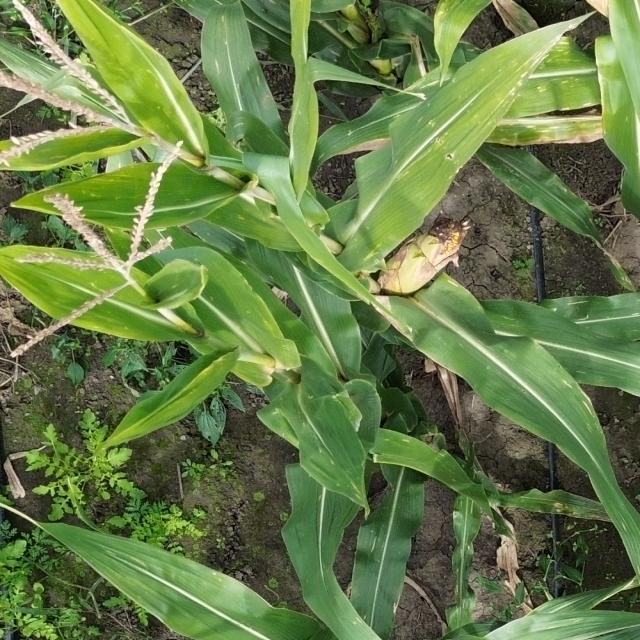gray-leaf-spot: (552, 286, 640, 438)
northern-leaf-blight: (499, 115, 634, 157), (502, 480, 609, 522)
southern-leaf-blight: (384, 42, 586, 180), (99, 47, 282, 145), (81, 252, 253, 336), (79, 171, 250, 246), (295, 414, 405, 510)
